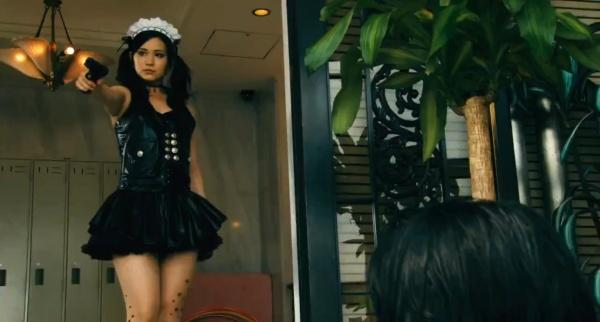Gun: (84, 57, 108, 94)
